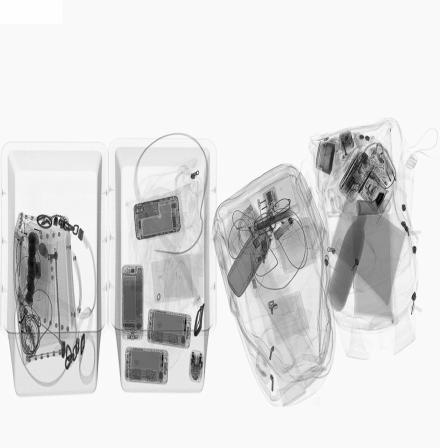Lighter: (235, 221, 259, 238)
